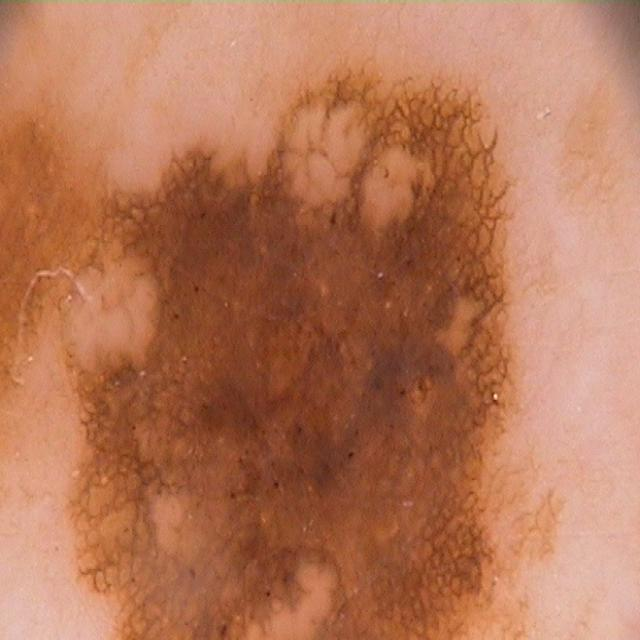Melanoma: (63, 100, 586, 640)
